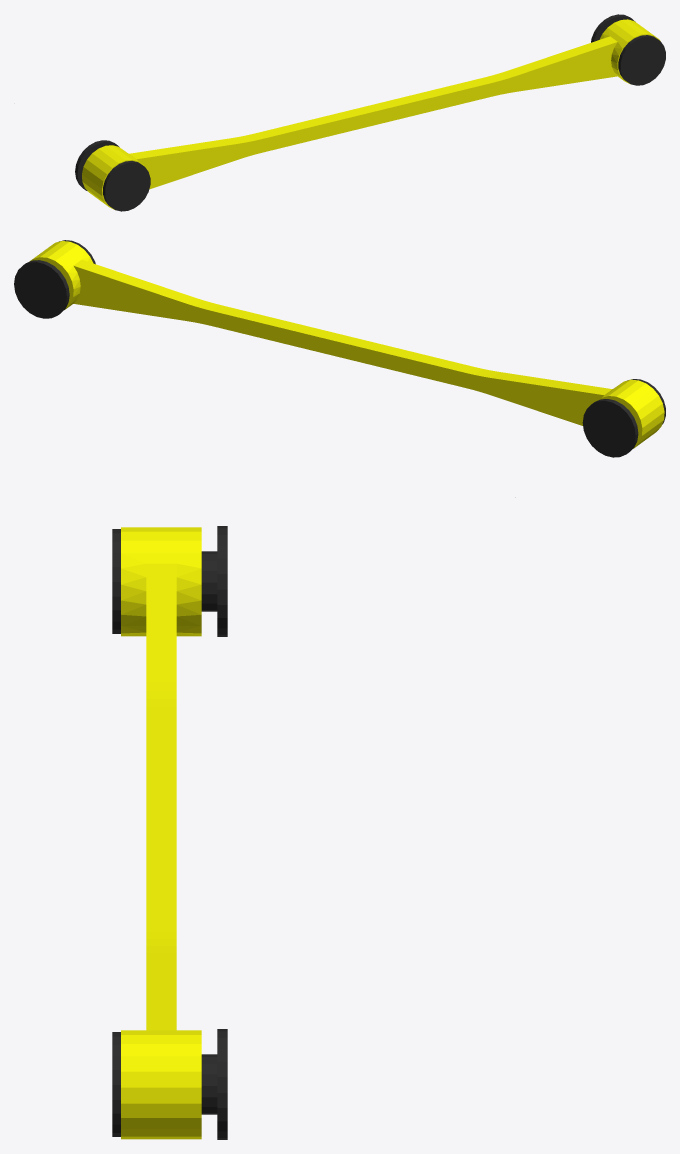
3 renders of one model, top to bottom at view 1: azimuth 30°, elevation 25°; view 2: azimuth 150°, elevation 25°; view 3: azimuth 270°, elevation 25°, orthographic. The views are drawn at different scales.
Parts seen in each view (by area): view 1: node; view 2: node; view 3: node.
Boxes of the visible parts, <box> form: node: <box>14,14,665,211</box>; node: <box>14,240,665,497</box>; node: <box>112,526,227,1139</box>.
Bounding box in the file's own units: 1033 × 87.1 × 362.
